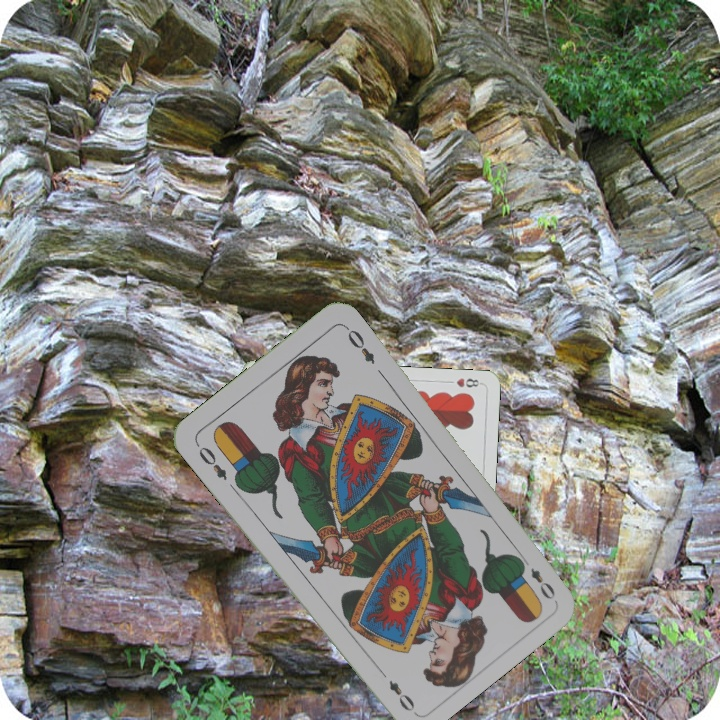EO: (515, 552, 558, 602), (192, 439, 230, 483)
H8: (452, 374, 484, 390)
